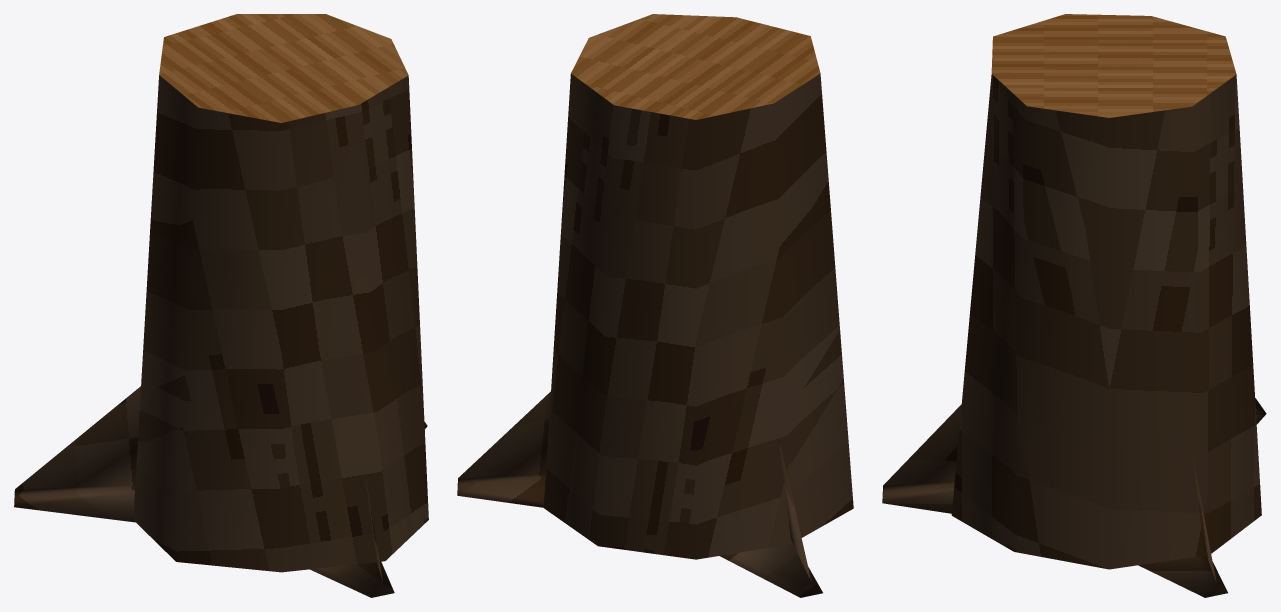
File: stump02_update-lod1.glb
The picture shows the model from 3 angles, left to right: view 1: azimuth 30°, elevation 25°; view 2: azimuth 150°, elevation 25°; view 3: azimuth 270°, elevation 25°; orthographic projection. The views are drawn at different scales.
Visible parts, largest first — view 1: TZ_stump_Batch_00_LOD1, TZ_stump_Batch_01_LOD1; view 2: TZ_stump_Batch_00_LOD1, TZ_stump_Batch_01_LOD1; view 3: TZ_stump_Batch_00_LOD1, TZ_stump_Batch_01_LOD1.
Part boxes in pixels (left/top/right/bottom): TZ_stump_Batch_00_LOD1: left=14, top=75, right=428, bottom=597; TZ_stump_Batch_01_LOD1: left=159, top=14, right=408, bottom=122; TZ_stump_Batch_00_LOD1: left=457, top=73, right=853, bottom=597; TZ_stump_Batch_01_LOD1: left=571, top=14, right=820, bottom=119; TZ_stump_Batch_00_LOD1: left=882, top=74, right=1266, bottom=597; TZ_stump_Batch_01_LOD1: left=991, top=14, right=1236, bottom=117.
Bounding box in the file's own units: 0.6133 × 0.66 × 0.5237.
Materials: 2 (2 with a texture image).
